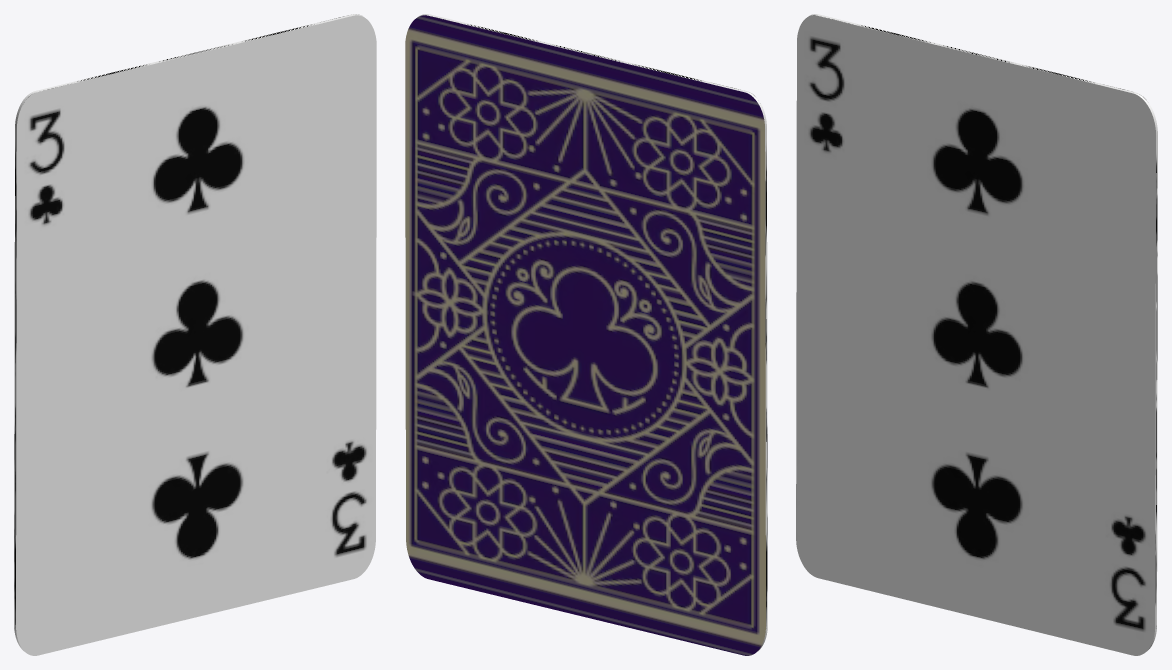
File: 3treboles.glb
The picture shows the model from 3 angles, left to right: view 1: azimuth 30°, elevation 25°; view 2: azimuth 150°, elevation 25°; view 3: azimuth 330°, elevation 25°; orthographic projection.
Visible parts, largest first — view 1: Cubo.015; view 2: Cubo.015; view 3: Cubo.015.
Boxes of the visible parts, left/top/right/bottom form: Cubo.015: left=14, top=14, right=376, bottom=655; Cubo.015: left=405, top=14, right=767, bottom=655; Cubo.015: left=796, top=14, right=1157, bottom=655.
Bounding box in the file's own units: 7.36 × 11 × 0.065.
3 materials, 3 textured.
